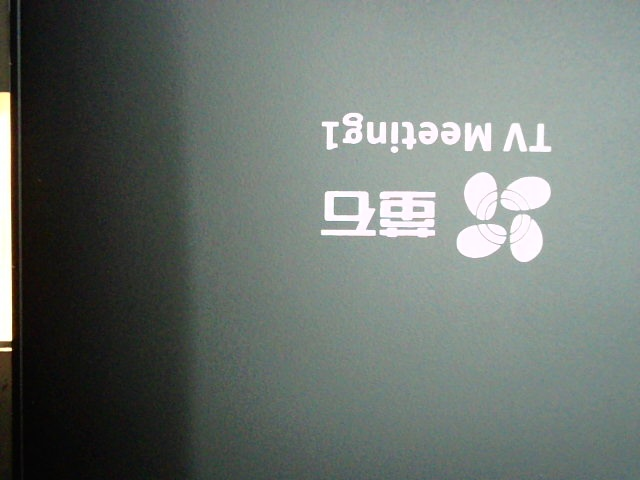BA_Yingshi: (317, 113, 555, 264)
